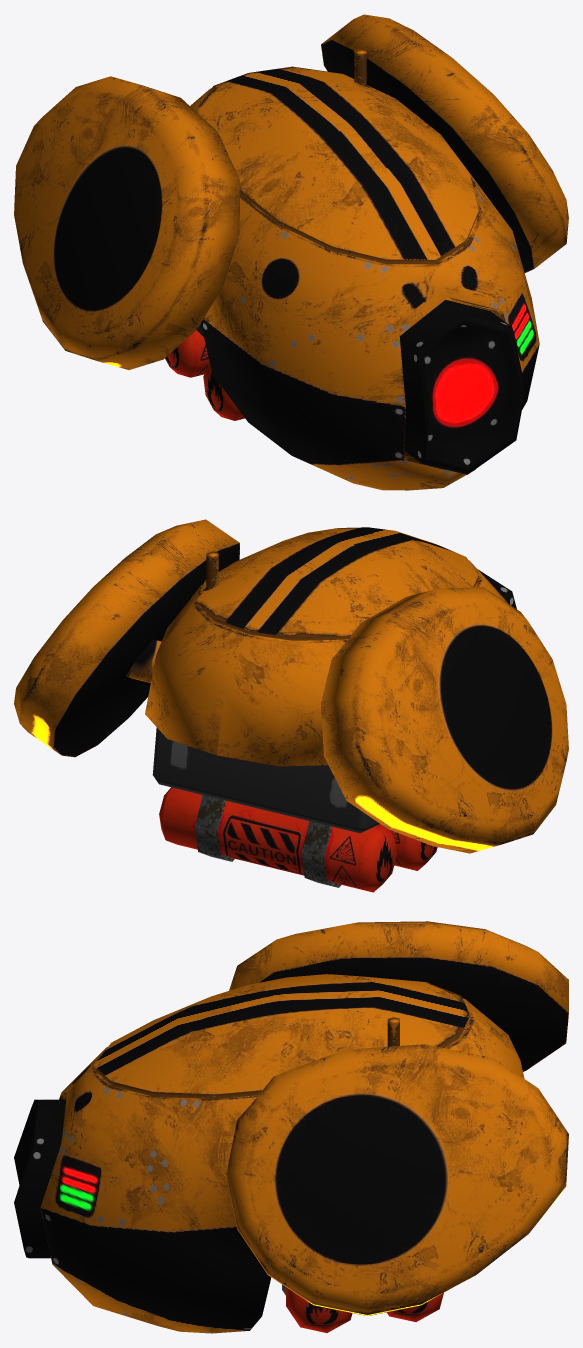
The model's file is drone_1.glb.
The picture shows the model from 3 angles, top to bottom: view 1: azimuth 30°, elevation 25°; view 2: azimuth 150°, elevation 25°; view 3: azimuth 270°, elevation 25°; orthographic projection.
Parts seen in each view (by area): view 1: Low_Bomber_Body; view 2: Low_Bomber_Body; view 3: Low_Bomber_Body.
Part boxes in pixels (x1=…): Low_Bomber_Body: x1=14, y1=14, x2=568, y2=490; Low_Bomber_Body: x1=14, y1=519, x2=568, y2=892; Low_Bomber_Body: x1=14, y1=921, x2=568, y2=1333.
Bounding box in the file's own units: 2 × 1.32 × 1.98.
1 material, 1 textured.
